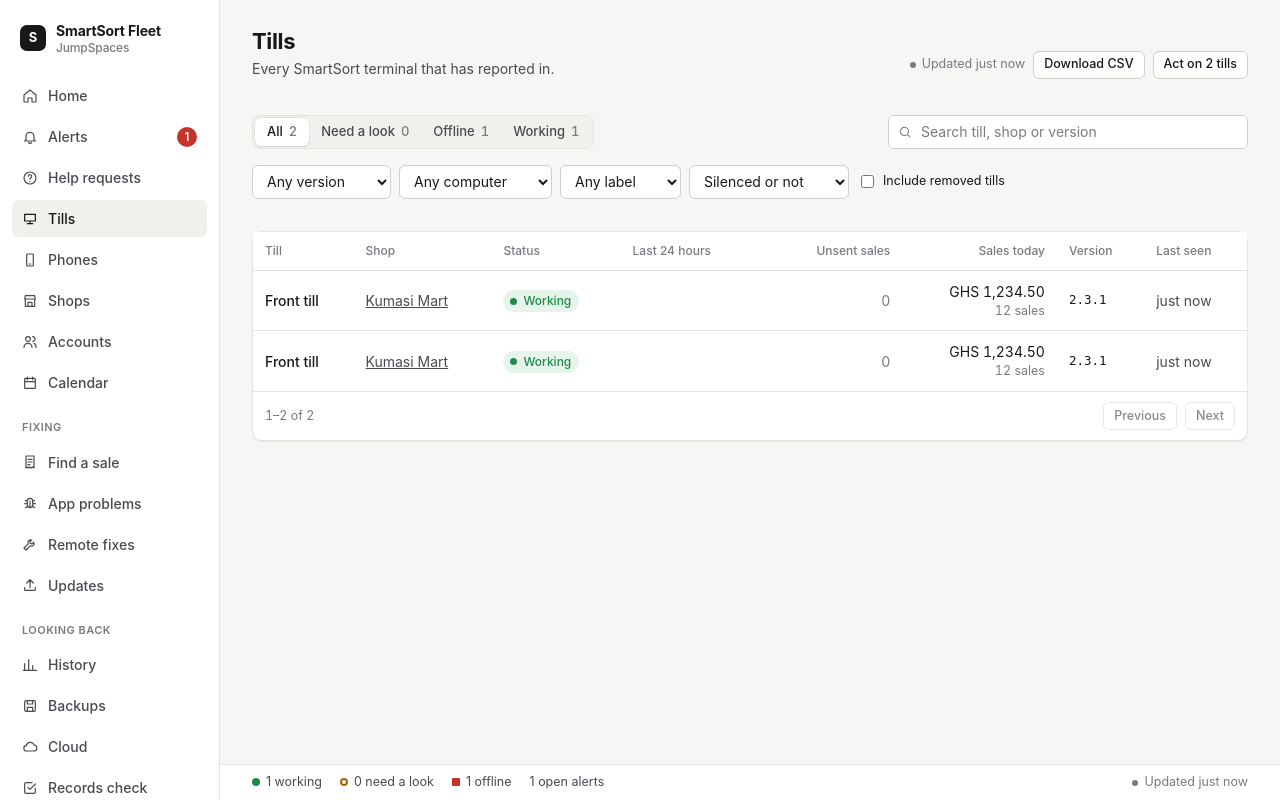
Test: Tills › runs a bulk fix on every matching till, skipping unlinked ones
Click the button "Act on 2 tills" at (1200, 64), box [1152,50,1248,78]
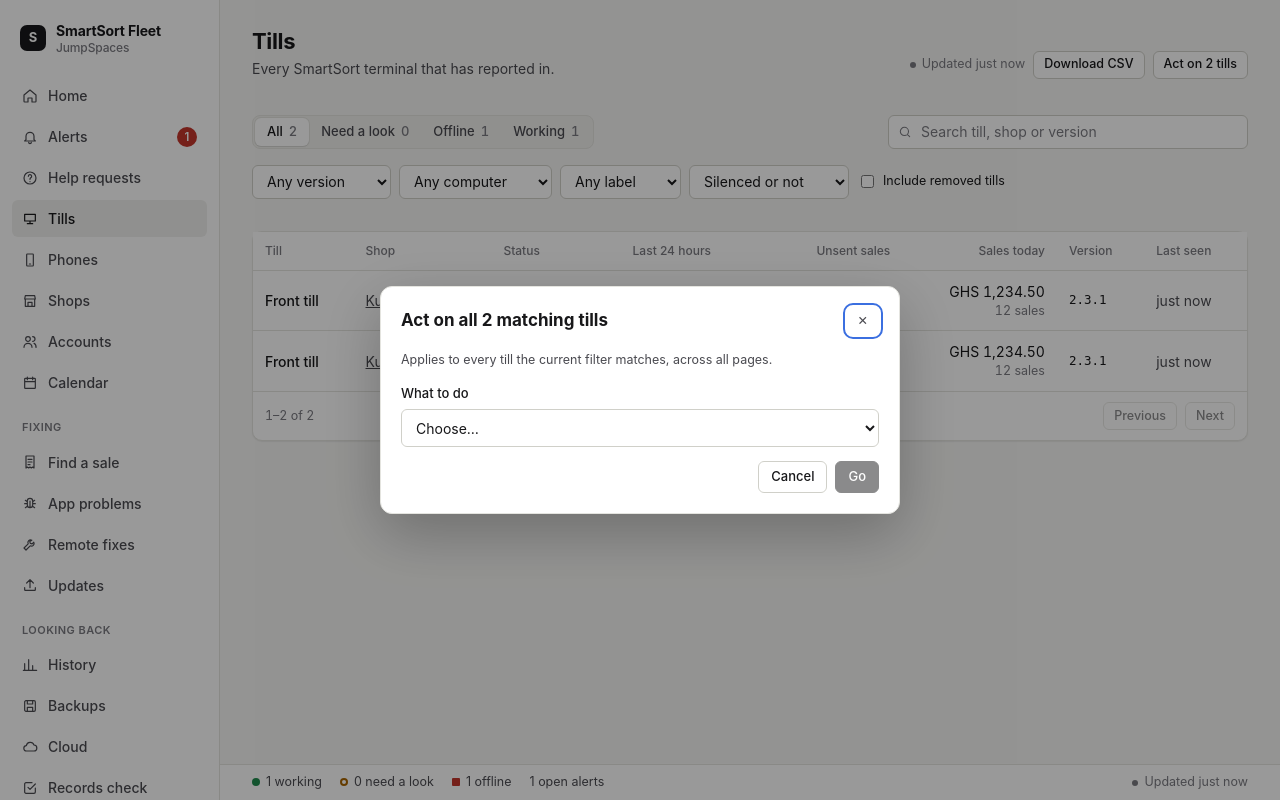
Select "Force sync" in the dropdown labelled "What to do" at (640, 428), box [401,409,879,447]
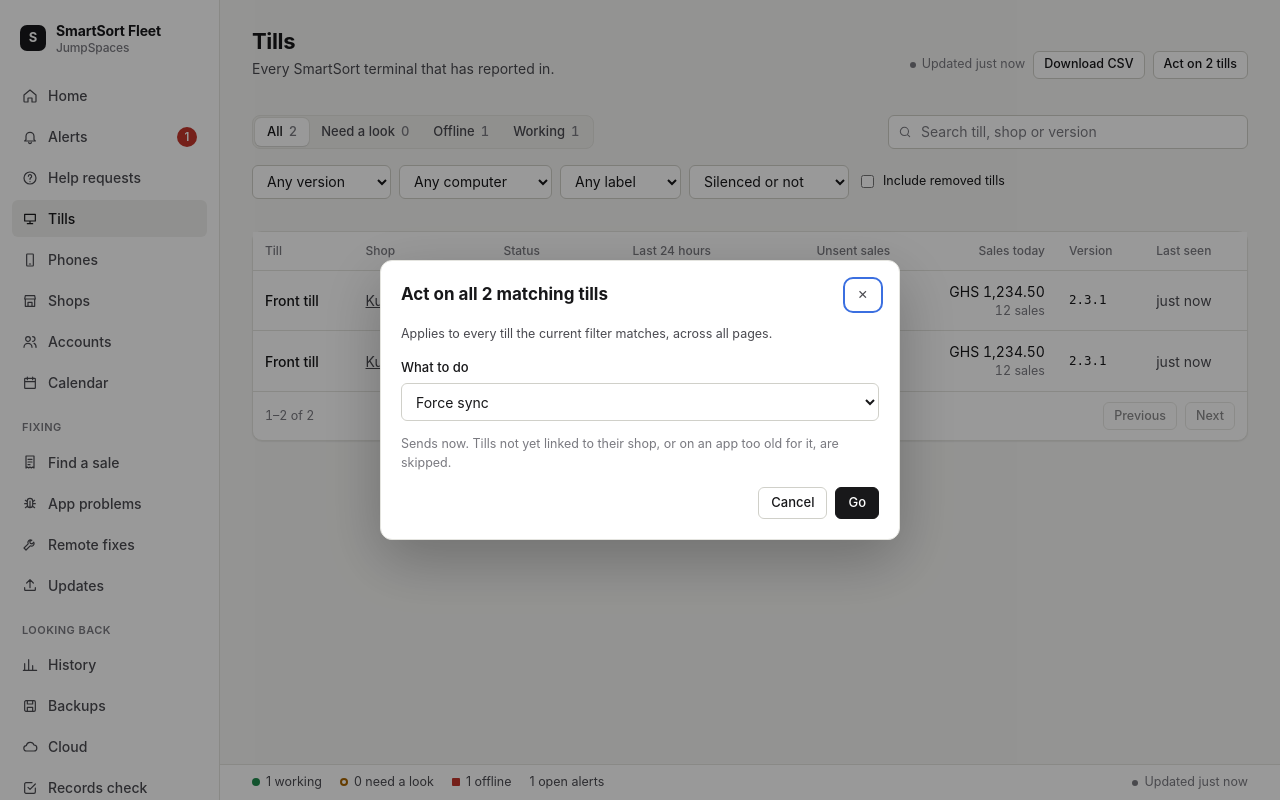
Click the button "Go" at (857, 503), box [835,487,879,519]
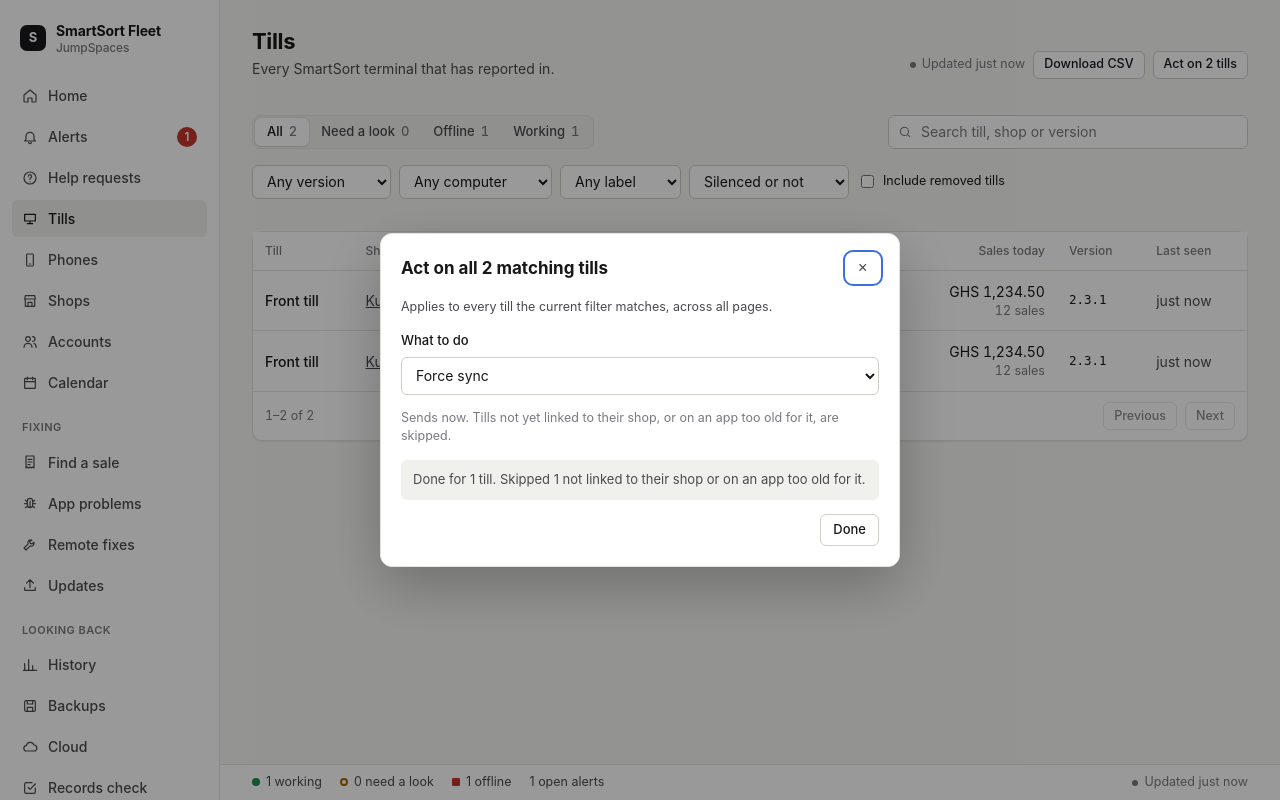
Check: the text "Done for 1 till." is shown, box [401,460,879,500]
Check: the text "Skipped 1 not linked" is shown, box [496,471,866,487]
